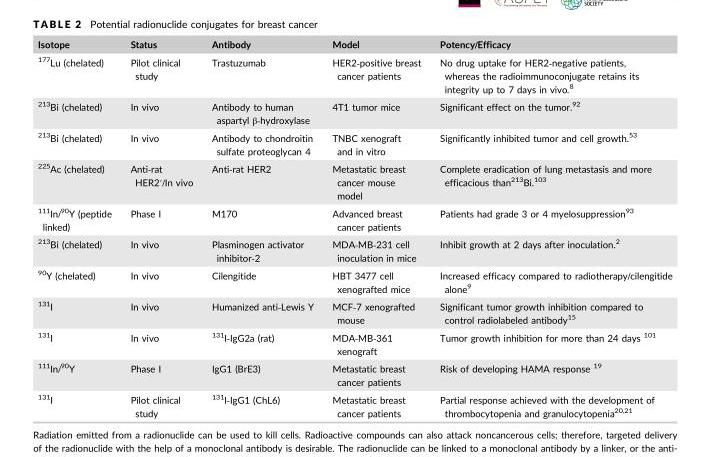table: (37, 37, 671, 417)
table column: (429, 37, 671, 417), (201, 37, 322, 417), (322, 37, 429, 417), (37, 37, 120, 417), (120, 37, 201, 417)
table column header: (37, 37, 671, 52)
table row: (37, 158, 671, 203), (37, 52, 671, 96), (37, 96, 671, 128), (37, 234, 671, 266), (37, 203, 671, 234), (37, 296, 671, 327), (37, 327, 671, 358), (37, 358, 671, 389), (37, 128, 671, 158), (37, 266, 671, 296), (37, 389, 671, 417), (37, 37, 671, 52)
